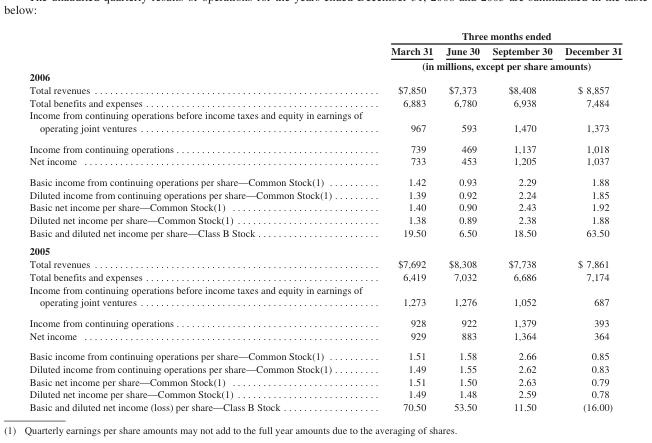table: (28, 29, 621, 412)
table column: (28, 29, 375, 412), (485, 29, 557, 412), (557, 29, 621, 412), (375, 29, 438, 412), (438, 29, 485, 412)
table column header: (28, 29, 621, 70)
table projected row header: (28, 241, 621, 257), (28, 70, 621, 82)
table row: (28, 282, 621, 312), (28, 108, 621, 137), (28, 137, 621, 154), (28, 154, 621, 171), (28, 328, 621, 345), (28, 171, 621, 187), (28, 225, 621, 241), (28, 241, 621, 257), (28, 312, 621, 328), (28, 345, 621, 361), (28, 42, 621, 57), (28, 29, 621, 42), (28, 57, 621, 70), (28, 82, 621, 95), (28, 95, 621, 108), (28, 187, 621, 200), (28, 200, 621, 213), (28, 257, 621, 270), (28, 361, 621, 374), (28, 374, 621, 387), (28, 387, 621, 400), (28, 70, 621, 82), (28, 213, 621, 225), (28, 270, 621, 282), (28, 400, 621, 412)
table spanning cell: (375, 29, 621, 42), (375, 57, 621, 70)
